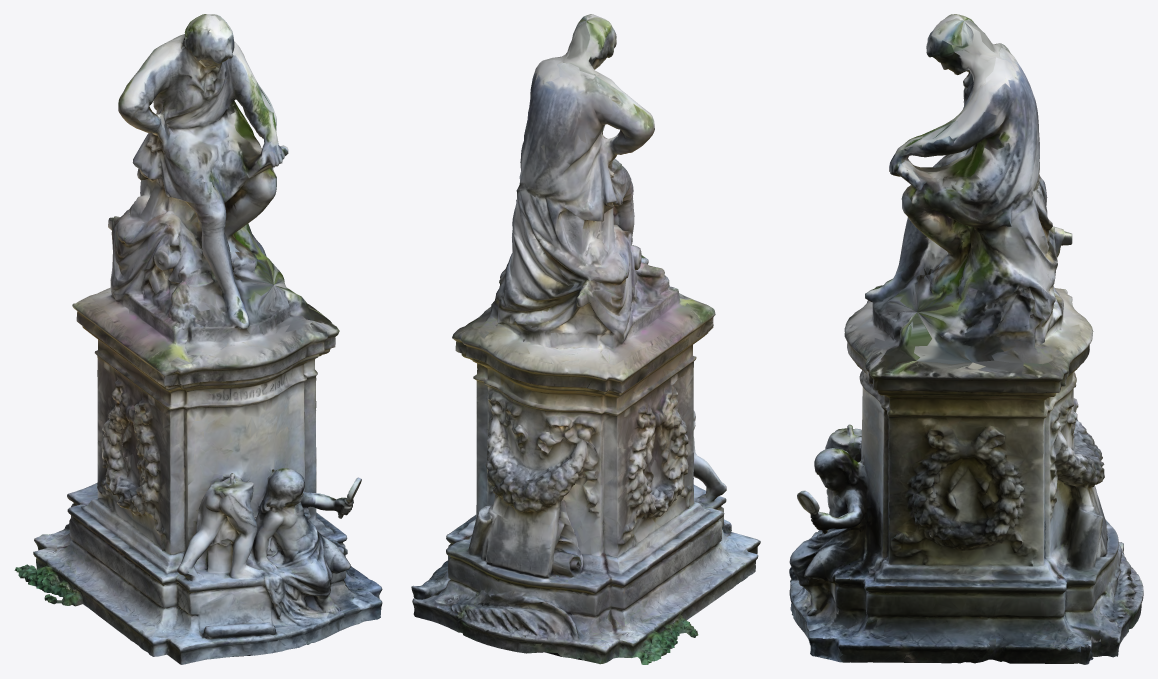
3 views of the same model, side by side, from view 1: azimuth 30°, elevation 25°; view 2: azimuth 150°, elevation 25°; view 3: azimuth 270°, elevation 25° (orthographic). The views are drawn at different scales.
Visible parts, largest first — view 1: 1k.25k; view 2: 1k.25k; view 3: 1k.25k.
Boxes of the visible parts, left/top/right/bottom form: 1k.25k: left=14, top=14, right=382, bottom=664; 1k.25k: left=411, top=14, right=760, bottom=664; 1k.25k: left=789, top=14, right=1143, bottom=664.
Bounding box in the file's own units: 2.51 × 5.46 × 2.98.
2 materials, 1 textured.
